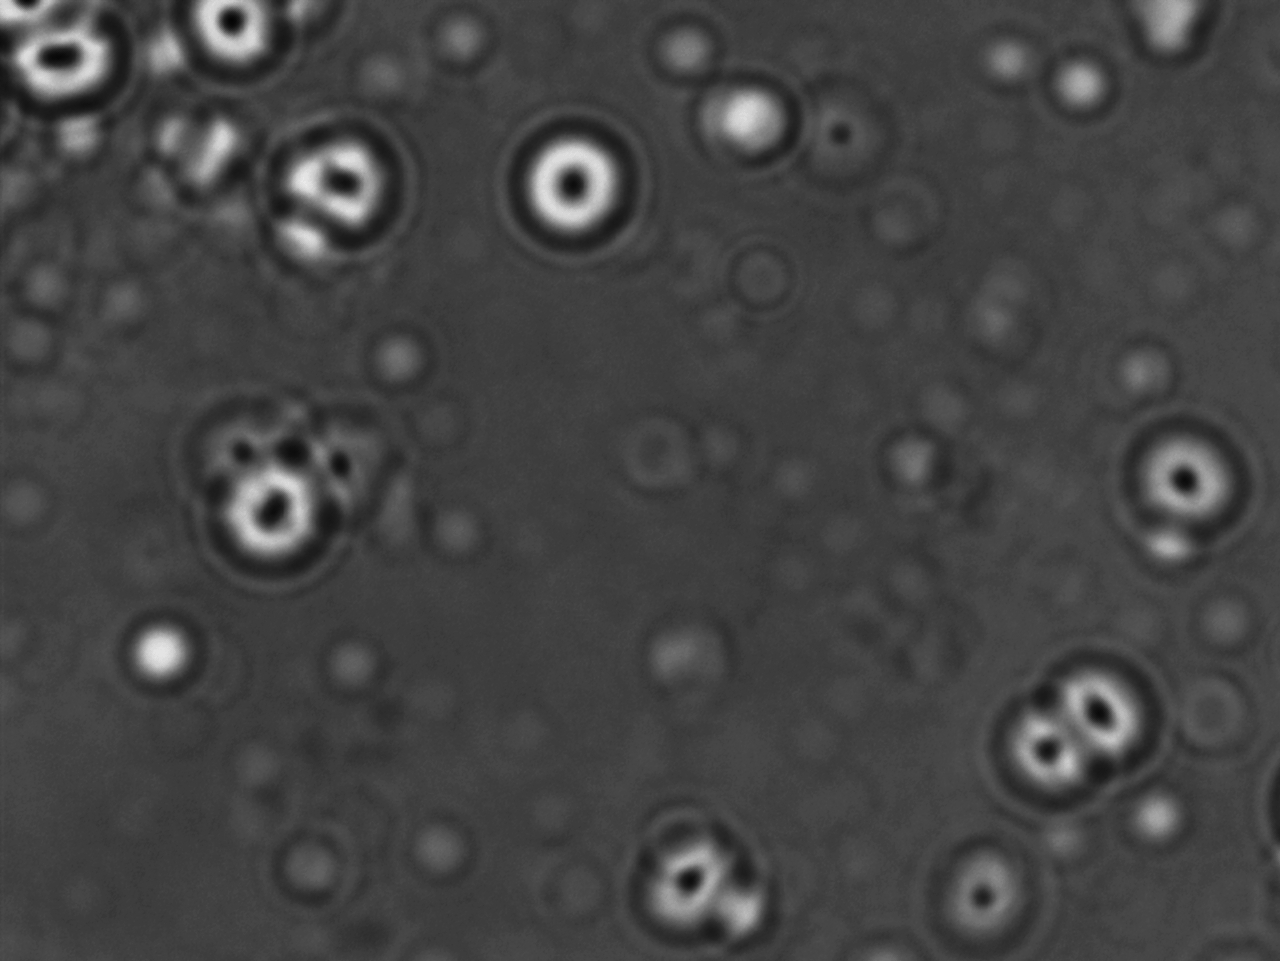depth:24: (492, 100, 653, 266), (186, 440, 357, 592), (258, 118, 411, 262), (1031, 635, 1175, 772), (973, 673, 1111, 811), (1112, 411, 1249, 547)
